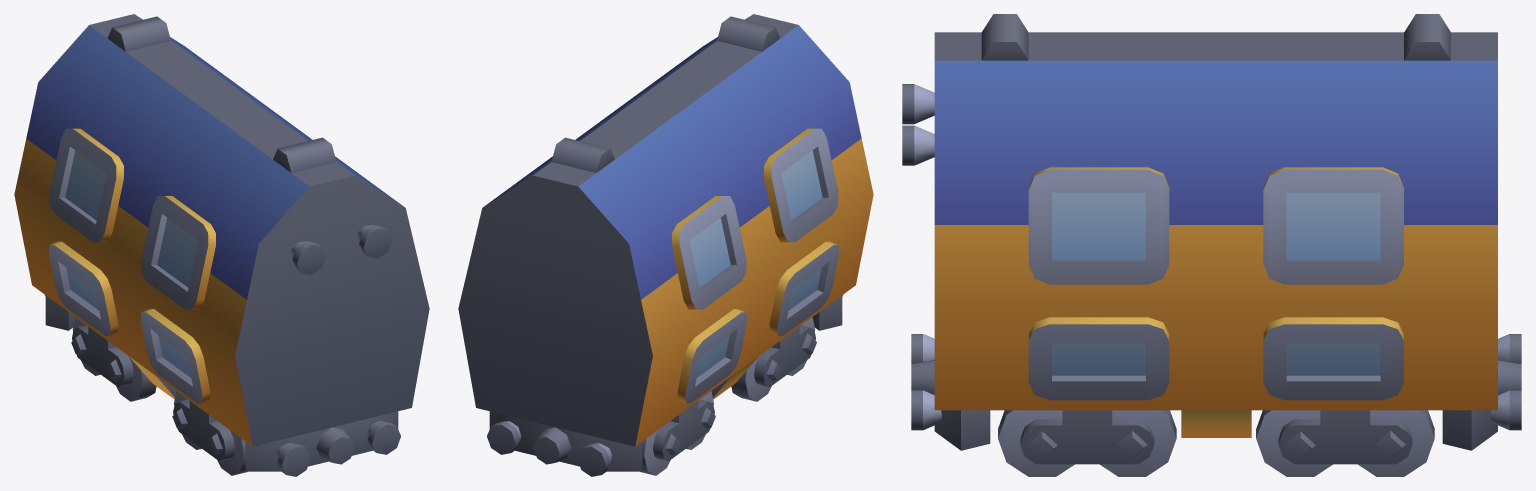
File: train-electric-double-b.glb
The picture shows the model from 3 angles, left to right: view 1: azimuth 30°, elevation 25°; view 2: azimuth 150°, elevation 25°; view 3: azimuth 270°, elevation 25°; orthographic projection. The views are drawn at different scales.
Parts seen in each view (by area): view 1: train-electric-double-b, wheels-back, wheels-front; view 2: train-electric-double-b, wheels-front, wheels-back; view 3: train-electric-double-b, wheels-back, wheels-front.
Part boxes in pixels (bbox=[...]): train-electric-double-b: bbox=[14, 14, 429, 476]; wheels-back: bbox=[71, 317, 156, 401]; wheels-front: bbox=[172, 391, 247, 475]; train-electric-double-b: bbox=[458, 14, 873, 476]; wheels-front: bbox=[731, 317, 816, 401]; wheels-back: bbox=[640, 391, 715, 475]; train-electric-double-b: bbox=[902, 14, 1521, 450]; wheels-back: bbox=[1256, 410, 1434, 476]; wheels-front: bbox=[998, 410, 1176, 476].
Bounding box in the file's own units: 1.28 × 1.92 × 2.64.
